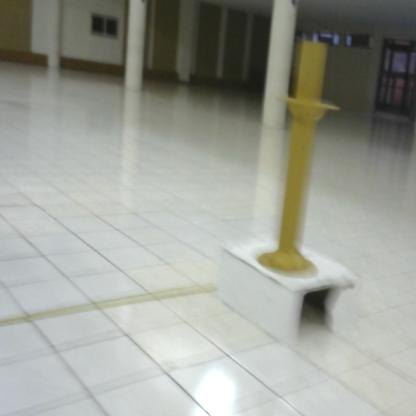pole: (249, 38, 343, 284)
